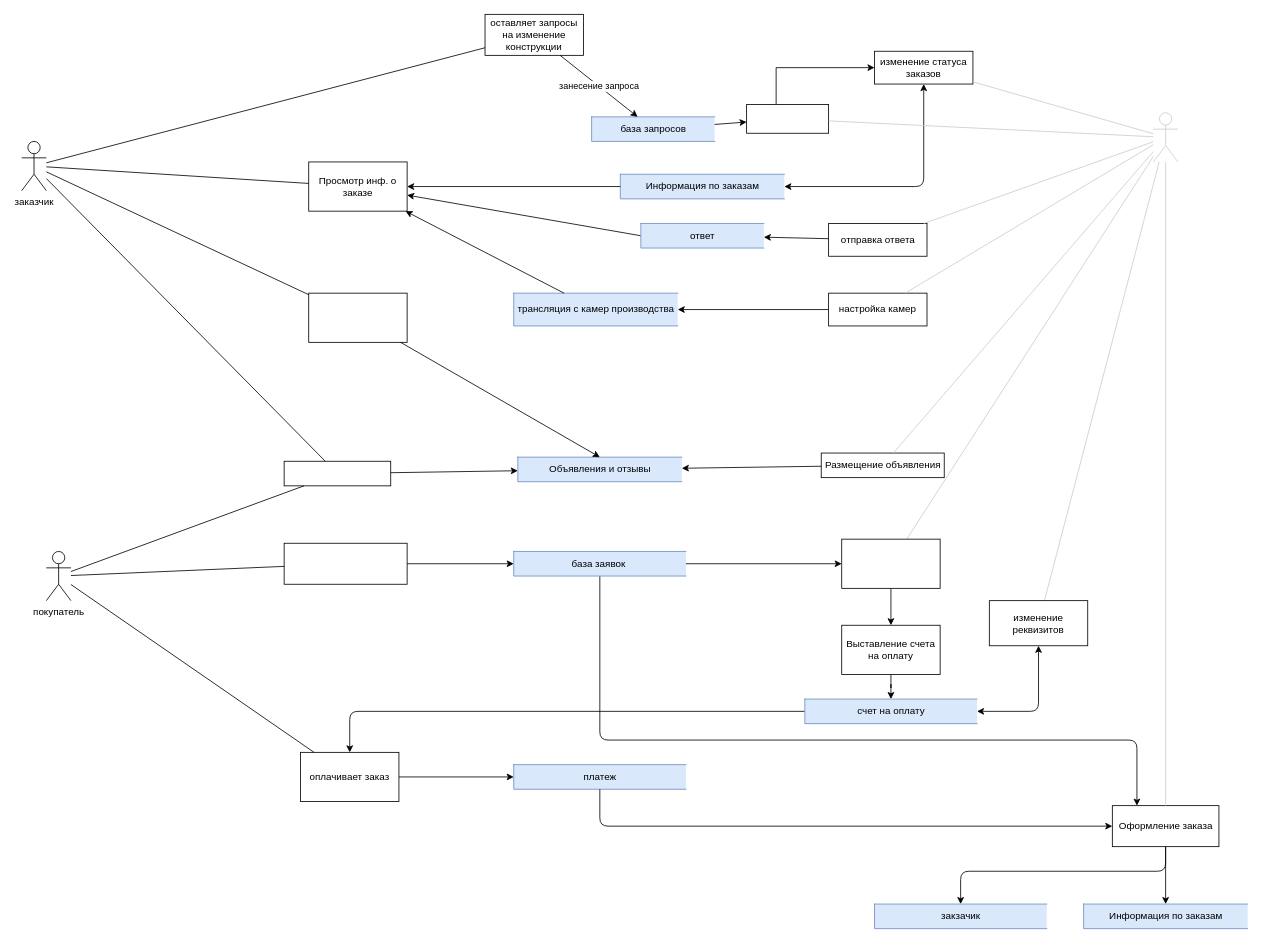
Image size: 1262x943. Some labels were removed from this diagram. The centre of each missing label's shape, as x and y in pixels:
"Админ" belongs at point 1165,137.
"оставляет заявку на изготовление автомобиля" belongs at point 345,563.
"Принятие заявок" belongs at point 890,563.
"просмотр объявлений и отзывов" belongs at point 337,473.
"создание отзыва" belongs at point 357,317.
"чтение запросов" belongs at point 787,118.
